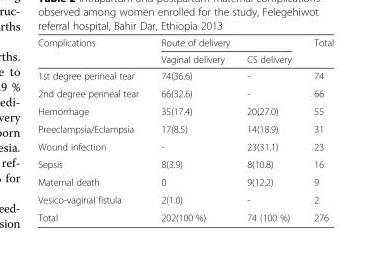table: (37, 36, 333, 222)
table column: (37, 36, 149, 222), (149, 36, 235, 222), (235, 36, 302, 222), (302, 36, 333, 222)
table column header: (37, 36, 333, 67)
table row: (37, 84, 333, 102), (37, 119, 333, 137), (37, 137, 333, 155), (37, 172, 333, 190), (37, 190, 333, 208), (37, 50, 333, 67), (37, 67, 333, 84), (37, 102, 333, 119), (37, 155, 333, 172), (37, 36, 333, 50), (37, 208, 333, 222)
table spanning cell: (37, 36, 149, 67), (149, 36, 302, 50), (302, 36, 333, 67)
